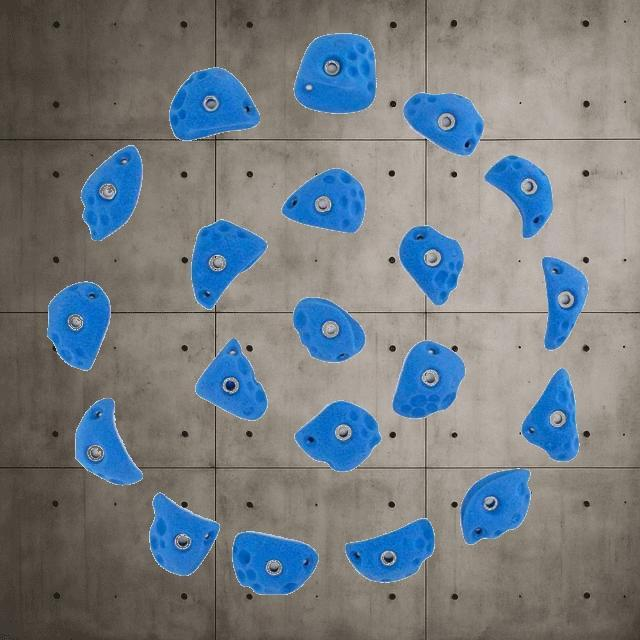Crimp: (190, 218, 266, 310), (292, 31, 376, 113), (168, 66, 260, 140), (294, 400, 382, 472), (79, 144, 143, 240), (195, 337, 268, 421), (148, 492, 220, 576), (74, 397, 142, 485), (483, 154, 553, 238), (391, 339, 465, 418), (46, 280, 110, 370), (344, 518, 434, 582), (280, 167, 366, 233), (520, 367, 580, 461), (396, 224, 464, 306), (232, 531, 318, 595), (402, 90, 484, 156), (460, 468, 530, 544), (292, 296, 366, 362), (540, 255, 588, 349)
